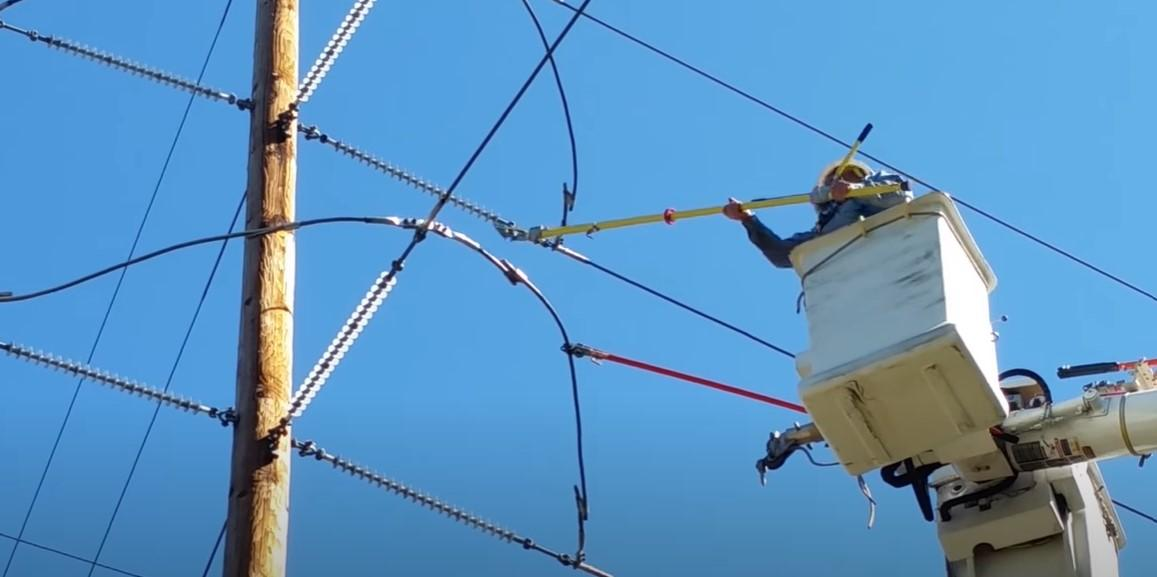Vara_Manobra: (499, 174, 914, 248), (570, 340, 809, 423)
